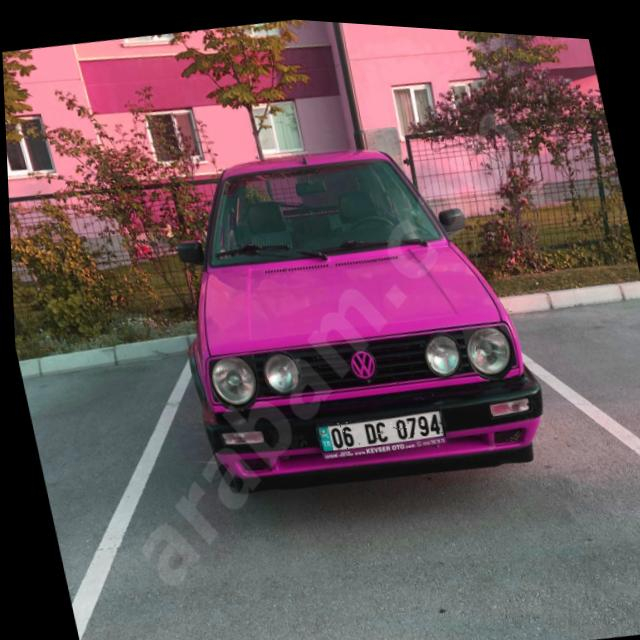license_plate: (310, 398, 442, 453)
